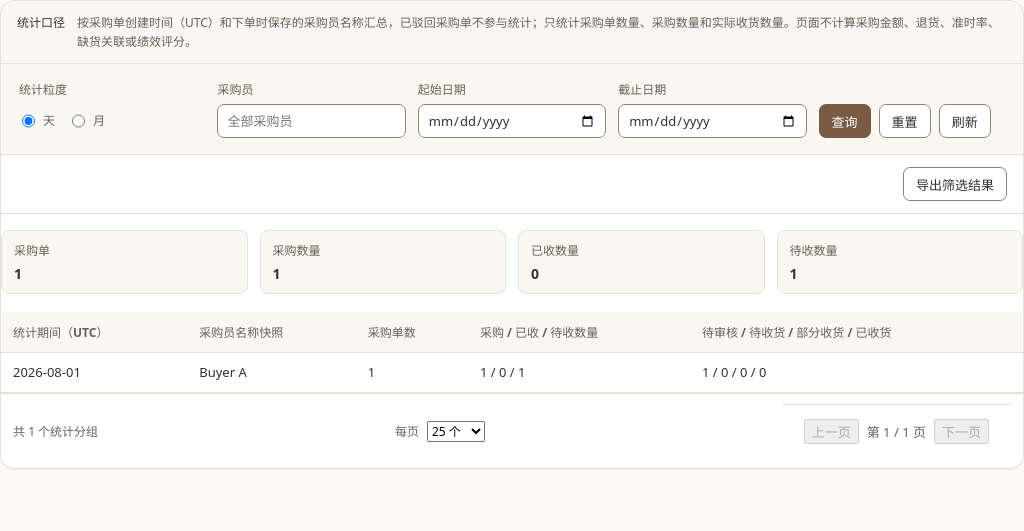
Test: purchaser performance page › announces an oversized export and permits retry
The image size is (1024, 531).
Click the button "导出筛选结果" at (955, 184), box x1=903 y1=167 x2=1007 y2=201
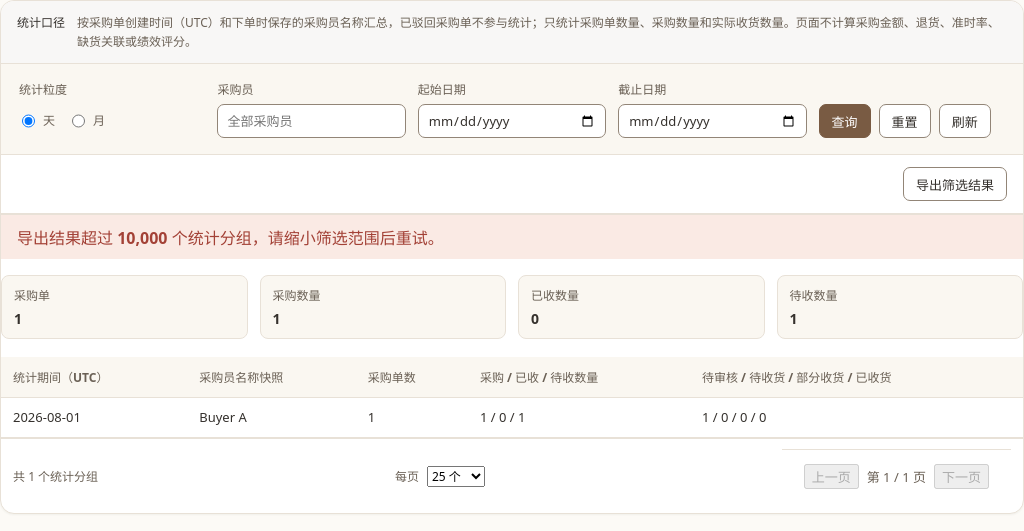
Check: the message shows "超过 10,000 个统计分组", box x1=17 y1=227 x2=444 y2=249
